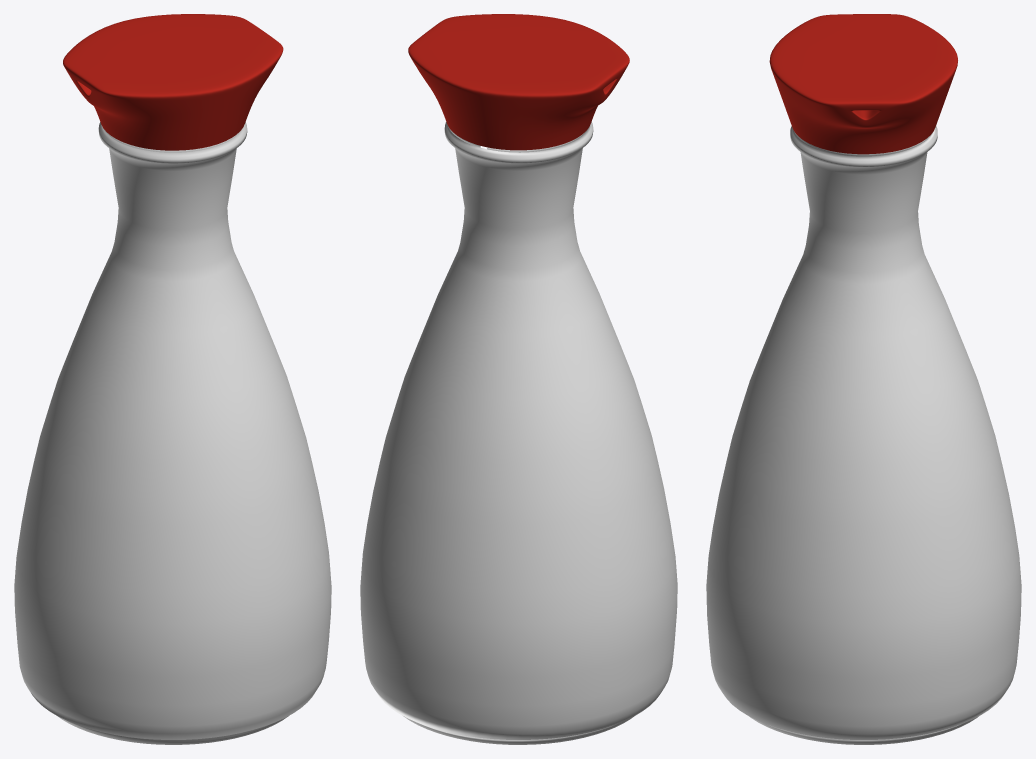
File: soy_sauce_00.glb
3 views of the same model, side by side, from view 1: azimuth 30°, elevation 25°; view 2: azimuth 150°, elevation 25°; view 3: azimuth 270°, elevation 25° (orthographic).
Visible parts, largest first — view 1: bottle_Plane, cap_Circle.003; view 2: bottle_Plane, cap_Circle.003; view 3: bottle_Plane, cap_Circle.003.
Boxes of the visible parts, box(x1,y1,x2,y2) form: bottle_Plane: box(14, 122, 331, 744); cap_Circle.003: box(63, 14, 283, 150); bottle_Plane: box(360, 122, 677, 744); cap_Circle.003: box(408, 14, 629, 150); bottle_Plane: box(706, 125, 1021, 744); cap_Circle.003: box(769, 14, 957, 154).
Size of the model in its own units: 0.052 by 0.115 by 0.052.
